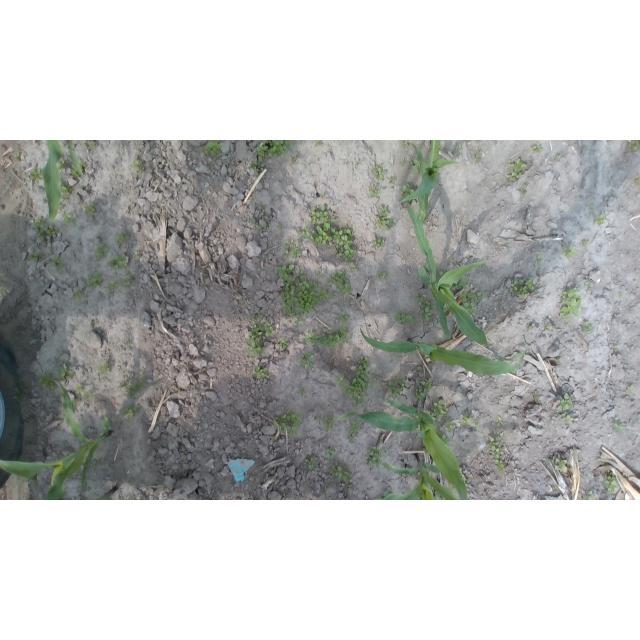Maize: (404, 201, 530, 361), (1, 378, 114, 500), (336, 397, 469, 500), (359, 327, 525, 377), (399, 140, 460, 224), (375, 451, 463, 500), (41, 140, 83, 229), (93, 488, 117, 501)
Weeds: (276, 265, 332, 317), (312, 223, 357, 262), (347, 357, 371, 407), (246, 321, 275, 357), (305, 327, 352, 349), (274, 410, 303, 439), (256, 140, 292, 162), (560, 285, 581, 322), (30, 219, 59, 244), (487, 437, 506, 471), (328, 270, 353, 295), (459, 290, 483, 314), (505, 159, 527, 181), (509, 277, 535, 295), (376, 206, 394, 231), (310, 205, 335, 223), (124, 379, 148, 397), (365, 446, 383, 468), (331, 462, 349, 482), (283, 240, 301, 259), (432, 400, 449, 420), (37, 372, 55, 390), (107, 255, 128, 270), (70, 160, 86, 178), (349, 421, 362, 443), (58, 364, 74, 381), (204, 141, 222, 156), (558, 393, 573, 411), (123, 405, 142, 419), (606, 472, 619, 492), (562, 245, 579, 260), (442, 417, 457, 433), (88, 272, 102, 289), (555, 413, 574, 425), (93, 243, 107, 259), (106, 280, 119, 297), (387, 382, 400, 399), (554, 458, 568, 473), (114, 232, 130, 245), (301, 353, 314, 369), (62, 212, 76, 226), (371, 234, 385, 248), (421, 307, 434, 322), (29, 169, 45, 181), (252, 366, 268, 378), (51, 256, 65, 269), (98, 361, 111, 375), (400, 184, 414, 197), (26, 251, 42, 262), (472, 148, 483, 164), (395, 313, 412, 323), (374, 166, 387, 179), (131, 160, 145, 172), (299, 223, 310, 238), (123, 273, 136, 285), (415, 388, 427, 401), (627, 140, 640, 152), (593, 214, 605, 226), (532, 140, 544, 152), (85, 203, 96, 216), (325, 417, 336, 430), (613, 419, 624, 432), (413, 159, 423, 173), (397, 377, 405, 394), (249, 311, 264, 320), (582, 491, 597, 500), (327, 448, 338, 460), (420, 379, 432, 390), (461, 414, 472, 426), (370, 187, 382, 198), (338, 312, 350, 322), (277, 339, 289, 349), (583, 320, 593, 332), (14, 388, 23, 401), (534, 254, 543, 267), (61, 185, 71, 196), (73, 290, 83, 301), (305, 458, 315, 469), (336, 377, 346, 388), (250, 162, 260, 172), (75, 384, 83, 395), (581, 239, 590, 248), (459, 281, 468, 290), (294, 318, 307, 324), (13, 154, 21, 163), (58, 161, 67, 169), (298, 387, 306, 396), (416, 298, 424, 307), (377, 273, 387, 280), (87, 140, 95, 148), (583, 278, 591, 286), (315, 414, 322, 423), (259, 203, 268, 210), (262, 218, 272, 224), (134, 251, 142, 258), (614, 345, 621, 353), (519, 189, 527, 196), (455, 145, 463, 152), (498, 415, 503, 425), (253, 220, 260, 227), (627, 385, 634, 392), (403, 141, 410, 148), (355, 160, 362, 167), (636, 173, 640, 185), (84, 392, 92, 398), (375, 378, 380, 387), (558, 358, 563, 367), (426, 302, 435, 307), (317, 269, 324, 275), (544, 325, 551, 331), (351, 266, 357, 273), (259, 225, 266, 231), (535, 396, 540, 404), (126, 339, 130, 348), (315, 141, 322, 146), (72, 400, 77, 407), (401, 159, 406, 166), (388, 178, 396, 182), (555, 155, 561, 160), (278, 226, 284, 231), (319, 193, 325, 198), (620, 292, 625, 297), (527, 325, 533, 329), (590, 206, 595, 210)
